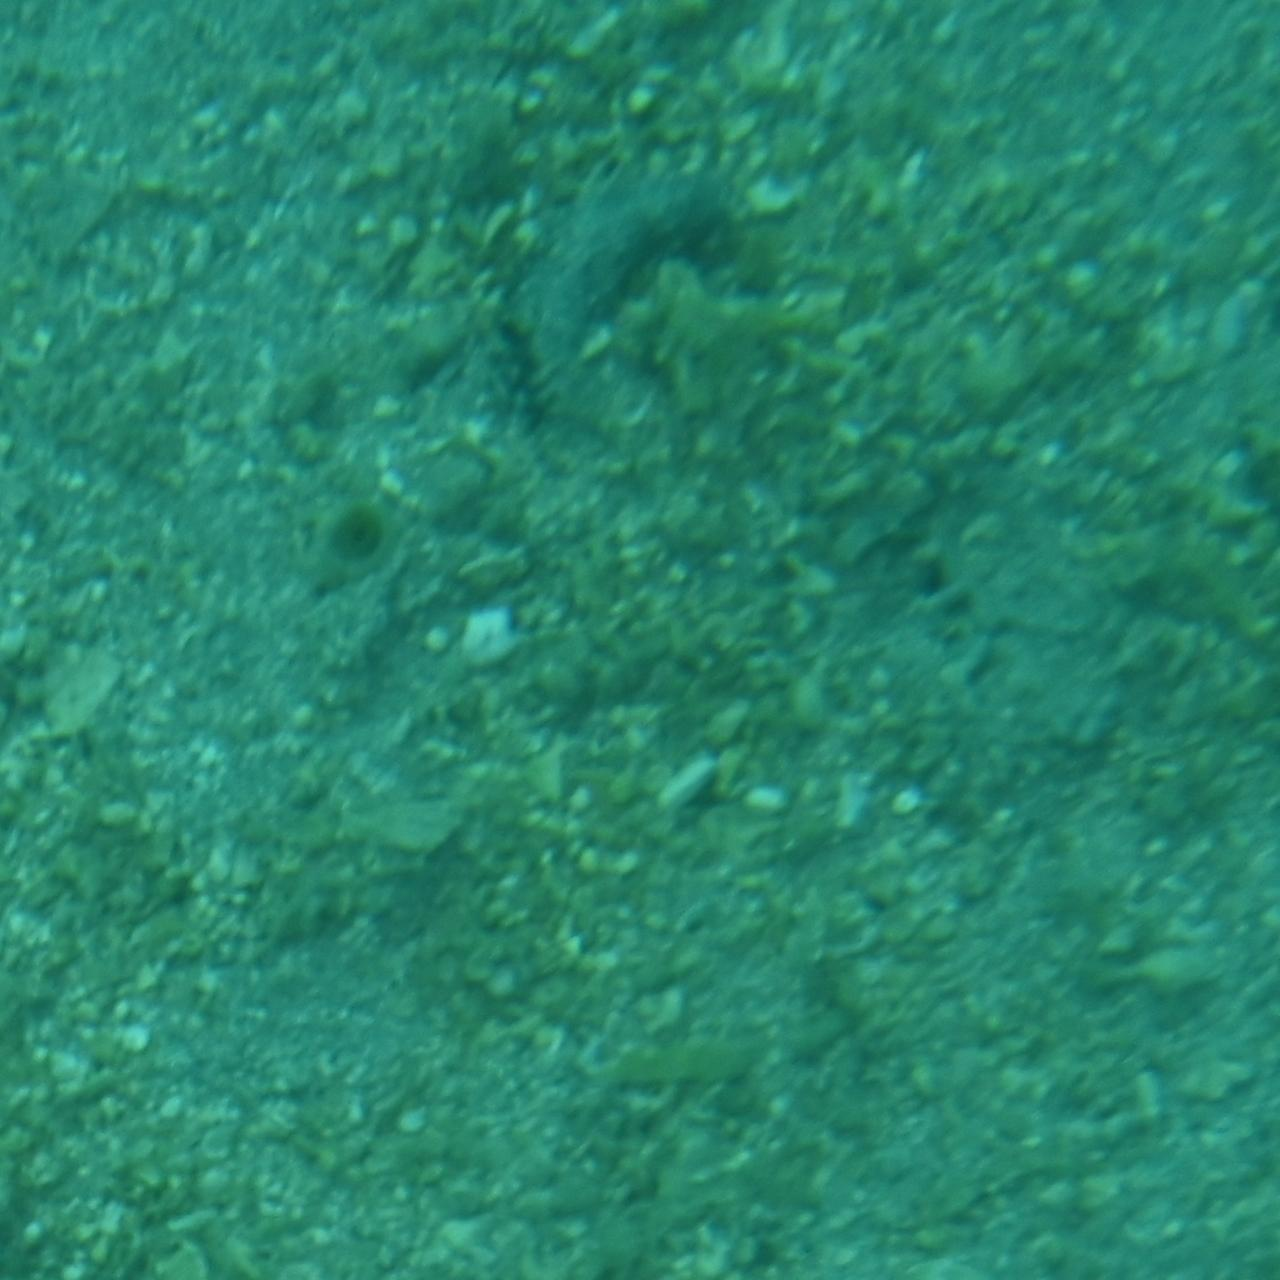Holothuria tubulosa: (512, 129, 768, 443)
